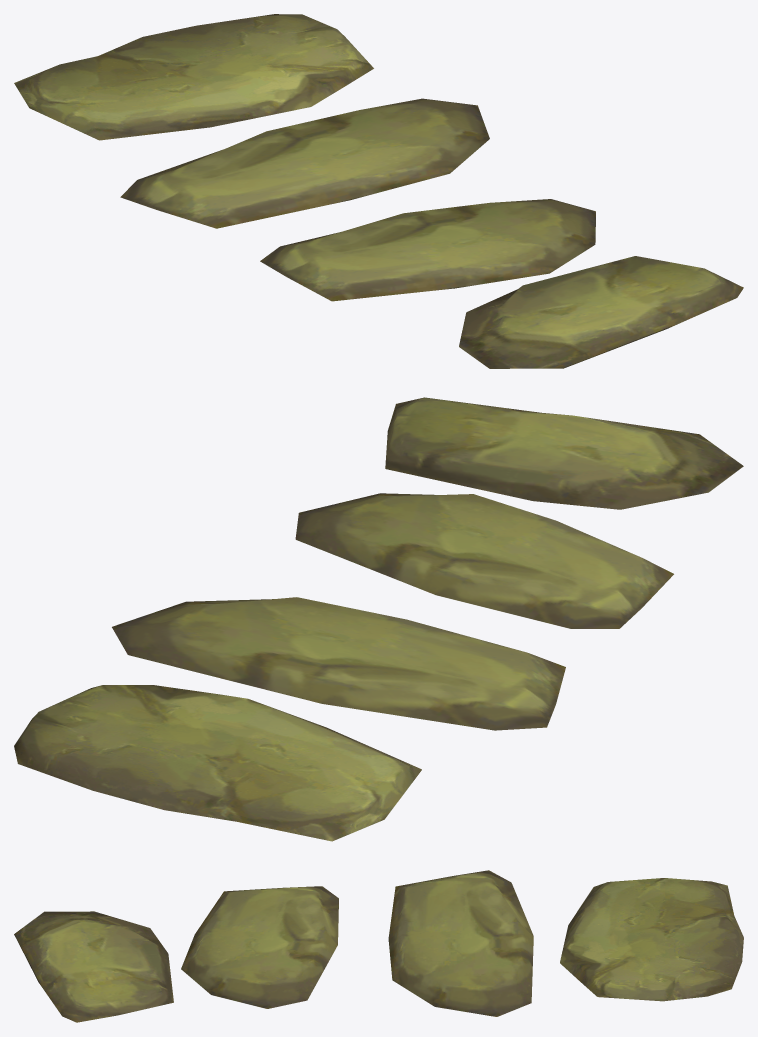
File: loyalismwood_road02.FBX
3 views of the same model, one above another, from view 1: azimuth 30°, elevation 25°; view 2: azimuth 150°, elevation 25°; view 3: azimuth 270°, elevation 25° (orthographic). The views are drawn at different scales.
Parts seen in each view (by area): view 1: loyalismwood_round02; view 2: loyalismwood_round02; view 3: loyalismwood_round02.
Part boxes in pixels (<box>): loyalismwood_round02: <box>14,14,743,368</box>; loyalismwood_round02: <box>14,397,743,841</box>; loyalismwood_round02: <box>14,870,743,1022</box>.
Size of the model in its own units: 308 by 624 by 9.5.
